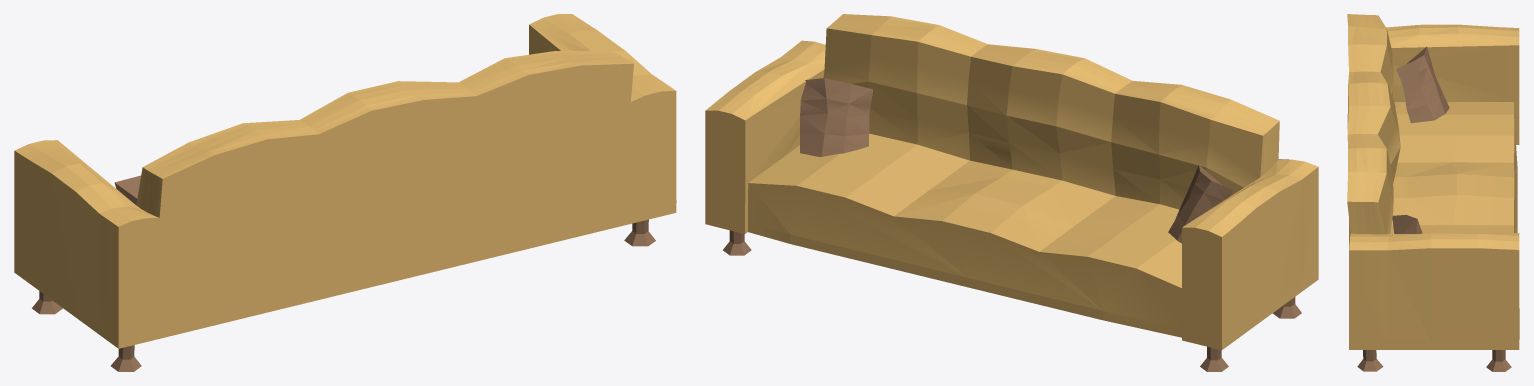
The model's file is longcouch.fbx.
3 views of the same model, side by side, from view 1: azimuth 30°, elevation 25°; view 2: azimuth 150°, elevation 25°; view 3: azimuth 270°, elevation 25° (orthographic). The views are drawn at different scales.
Visible parts, largest first — view 1: Sofa; view 2: Sofa; view 3: Sofa.
Boxes of the visible parts, x1,y1,x2,y2 form: Sofa: (14, 14, 676, 371); Sofa: (705, 14, 1318, 371); Sofa: (1347, 14, 1519, 371).
Size of the model in its own units: 739 by 266 by 242.
